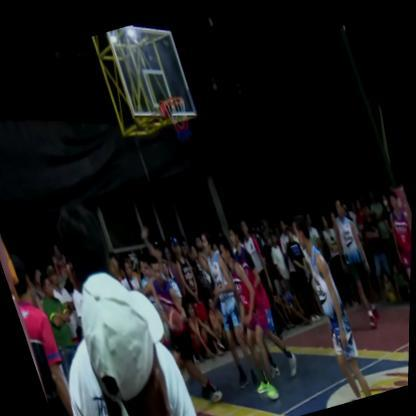basketball: (161, 299, 191, 338)
rim: (150, 75, 202, 148)
